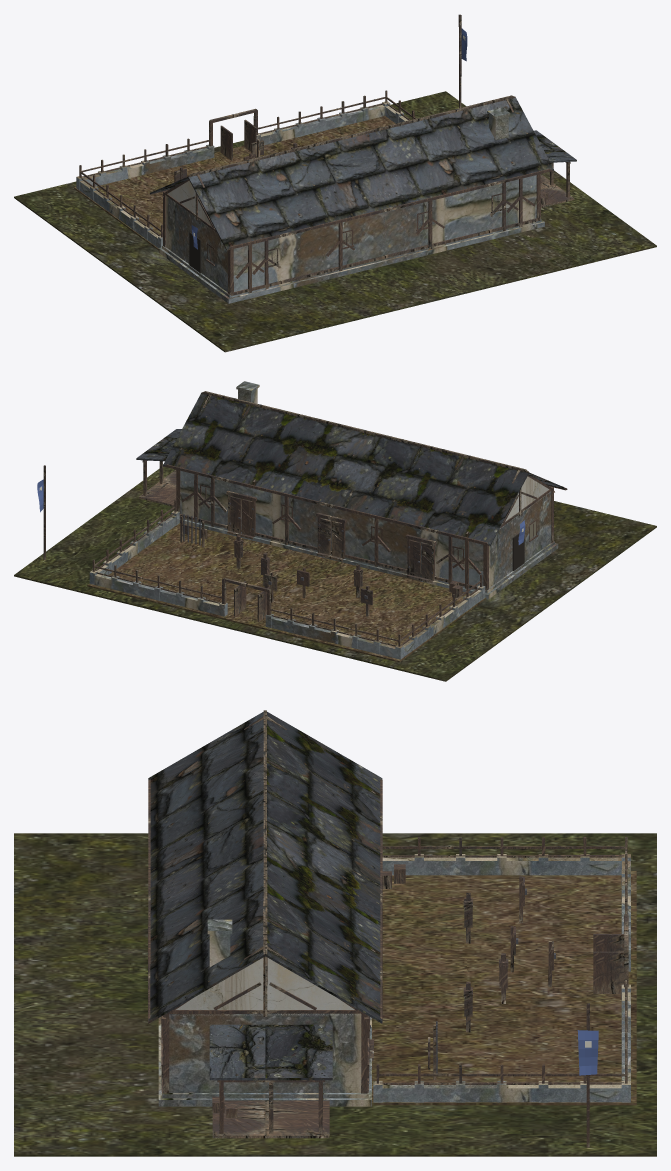
Rendered from barrosan_war_hall_a02.glb.
3 views of the same model, one above another, from view 1: azimuth 30°, elevation 25°; view 2: azimuth 150°, elevation 25°; view 3: azimuth 270°, elevation 25° (orthographic). The views are drawn at different scales.
Parts seen in each view (by area): view 1: YardGrass, RoofSouth, HallStoneBody, YardPacked, HallFoundation, RidgeBeam, FasciaS, PalN_R_Wall, SillRear, PalN_L_Wall, HallPlinth, PalW_Wall (+3 smaller); view 2: RoofNorth, YardGrass, YardPacked, HallStoneBody, YardPackedWear, HallFoundation, RidgeBeam, FasciaN, PalN_R_Wall, PalN_L_Wall, SillFront, PalW_Wall (+5 smaller); view 3: YardGrass, YardPacked, RoofNorth, RoofSouth, HallStoneBody, ShedRoof, GableEast, YardPackedWear, ShedDeck, PalE_Wall, PalW_Wall, HallFoundation (+11 smaller).
Part boxes in pixels (bbox=[...]): YardGrass: bbox=[14, 91, 656, 352]; RoofSouth: bbox=[188, 97, 553, 250]; HallStoneBody: bbox=[166, 175, 536, 292]; YardPacked: bbox=[74, 116, 395, 250]; HallFoundation: bbox=[158, 220, 544, 303]; RidgeBeam: bbox=[188, 95, 515, 177]; FasciaS: bbox=[227, 168, 552, 250]; PalN_R_Wall: bbox=[261, 105, 384, 145]; SillRear: bbox=[230, 218, 540, 296]; PalN_L_Wall: bbox=[84, 148, 208, 186]; HallPlinth: bbox=[162, 219, 541, 297]; PalW_Wall: bbox=[79, 180, 158, 247]; RoofNorth: bbox=[163, 393, 528, 546]; YardGrass: bbox=[14, 466, 656, 681]; YardPacked: bbox=[87, 523, 486, 662]; HallStoneBody: bbox=[180, 470, 551, 587]; YardPackedWear: bbox=[269, 550, 366, 591]; HallFoundation: bbox=[179, 519, 558, 599]; RidgeBeam: bbox=[201, 391, 528, 472]; FasciaN: bbox=[163, 464, 489, 546]; PalN_R_Wall: bbox=[95, 574, 219, 614]; PalN_L_Wall: bbox=[271, 617, 395, 657]; SillFront: bbox=[179, 514, 486, 591]; PalW_Wall: bbox=[403, 590, 481, 656]; YardGrass: bbox=[14, 833, 656, 1156]; YardPacked: bbox=[372, 871, 636, 1105]; RoofNorth: bbox=[265, 712, 382, 1023]; RoofSouth: bbox=[148, 712, 265, 1023]; HallStoneBody: bbox=[169, 1013, 361, 1092]; ShedRoof: bbox=[209, 1024, 332, 1080]; GableEast: bbox=[172, 958, 358, 1015]; YardPackedWear: bbox=[382, 959, 466, 1013]; ShedDeck: bbox=[212, 1100, 329, 1138]; PalE_Wall: bbox=[382, 1084, 621, 1102]; PalW_Wall: bbox=[382, 857, 621, 875]; HallFoundation: bbox=[158, 1017, 371, 1106].
Bounding box in the file's own units: 26 × 6.19 × 22.
Materials: 11 (6 with a texture image).
